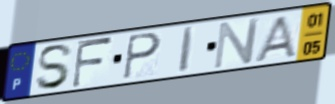A: (252, 14, 300, 63)
F: (70, 35, 115, 90)
I: (176, 25, 197, 75)
N: (212, 16, 263, 71)
P: (122, 31, 163, 82)
S: (34, 42, 75, 92)
